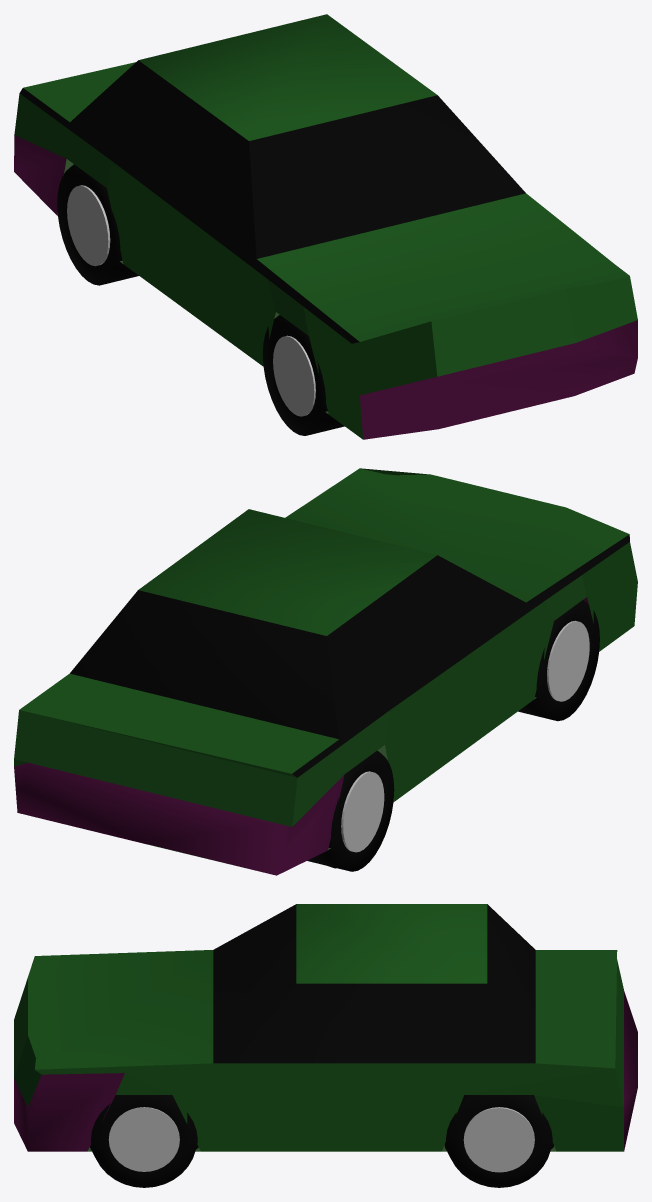
Rendered from Car.glb.
3 views of the same model, one above another, from view 1: azimuth 30°, elevation 25°; view 2: azimuth 150°, elevation 25°; view 3: azimuth 270°, elevation 25° (orthographic). The views are drawn at different scales.
Parts seen in each view (by area): view 1: fig; view 2: fig; view 3: fig.
Part boxes in pixels (x1=…): fig: x1=14, y1=14, x2=637, y2=439; fig: x1=14, y1=468, x2=637, y2=875; fig: x1=14, y1=904, x2=637, y2=1187.
Bounding box in the file's own units: 2 × 1.5 × 4.5.
